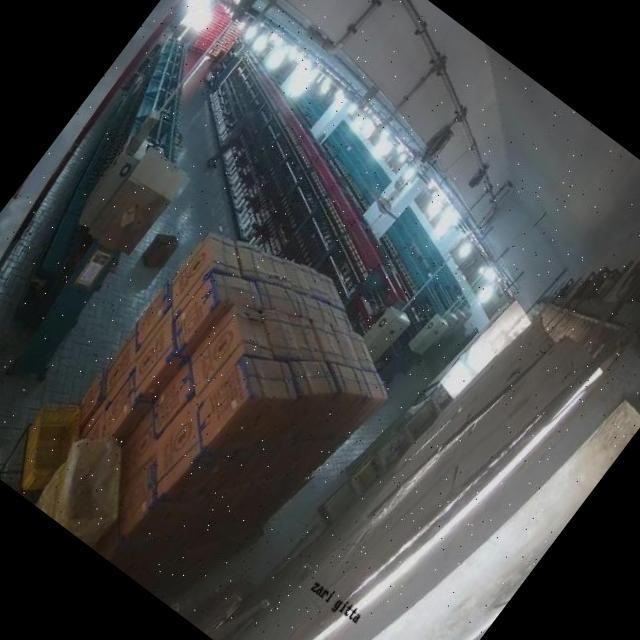person: (202, 96, 266, 174)
